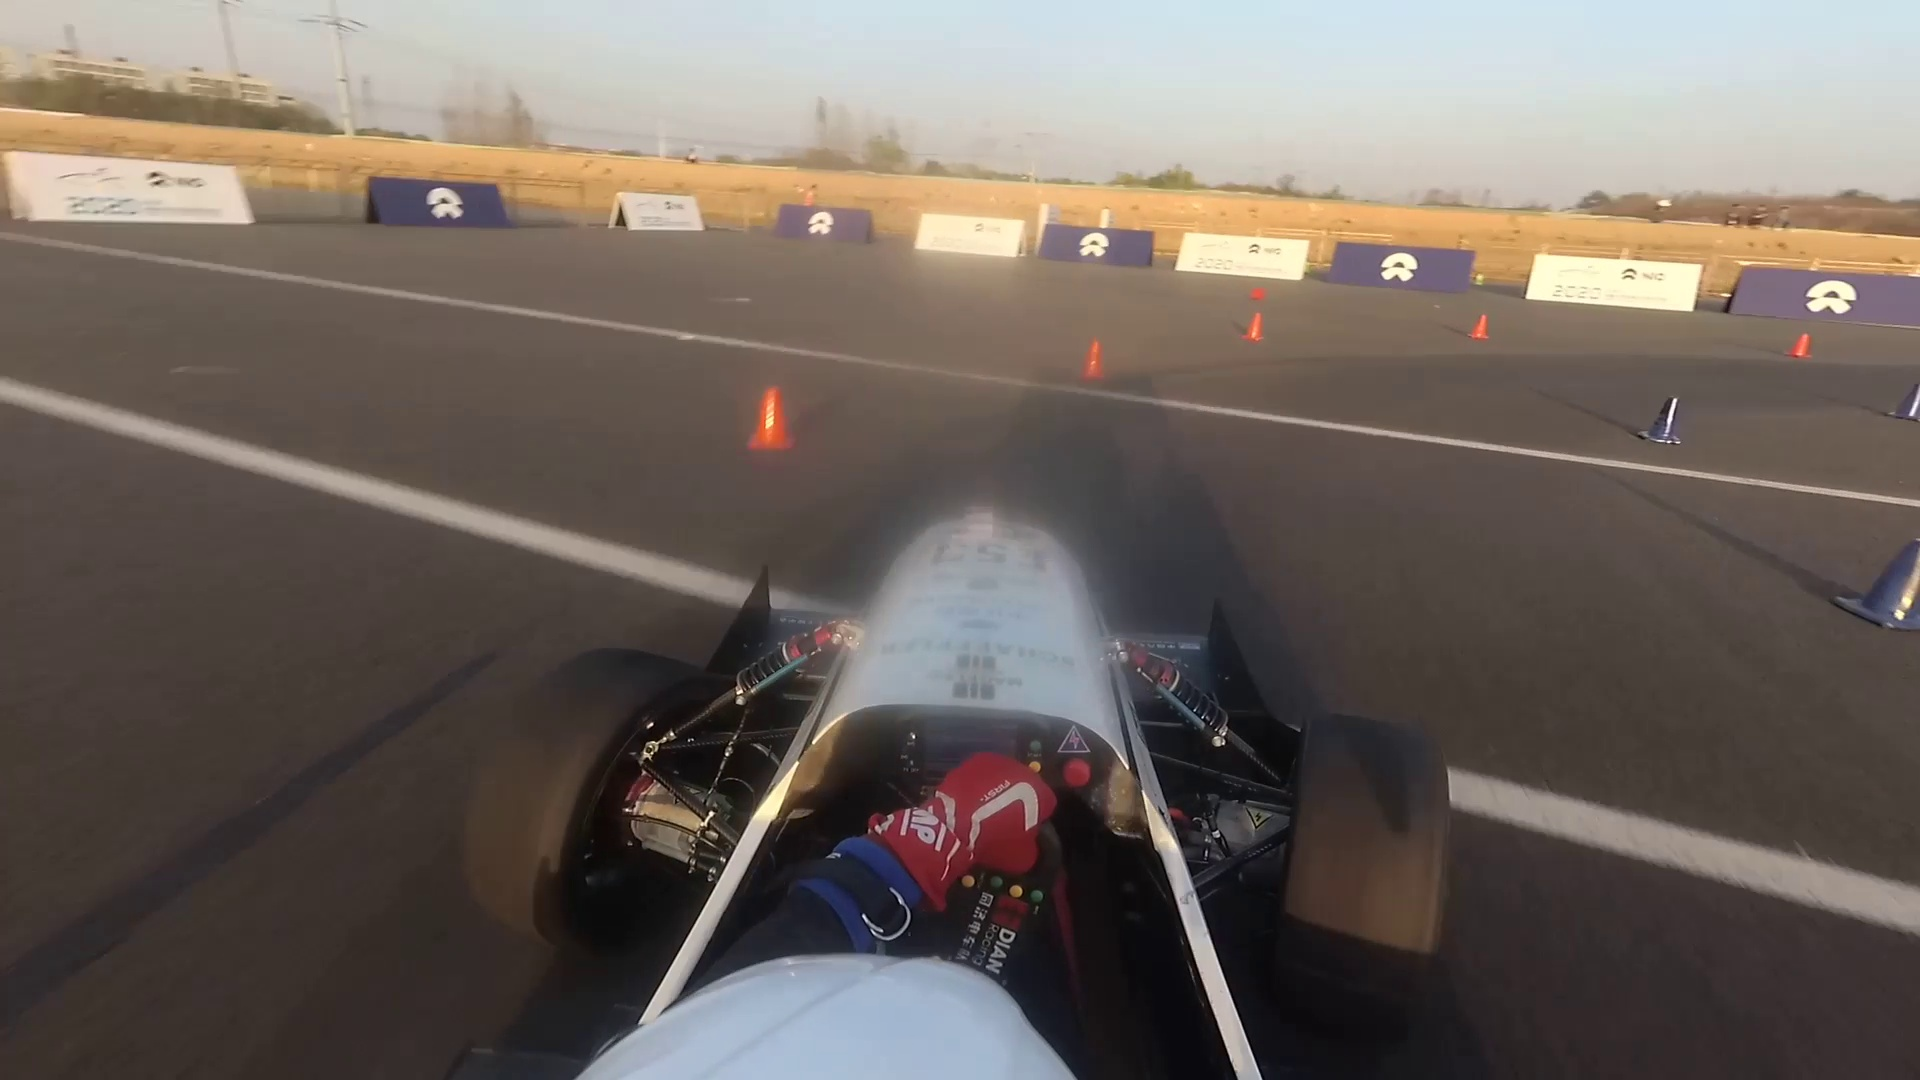blue_cone: (1825, 530, 1920, 632), (1634, 392, 1689, 443)
red_cone: (740, 384, 812, 469), (1072, 328, 1108, 384), (1783, 330, 1816, 364), (1460, 313, 1497, 343), (1240, 313, 1274, 342), (1246, 284, 1269, 301)
